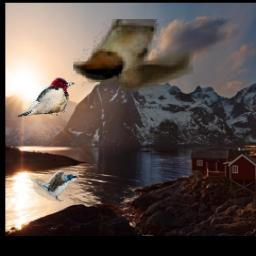Swallow: (74, 20, 194, 92), (32, 169, 80, 201)
Woodpecker: (17, 78, 75, 118)
